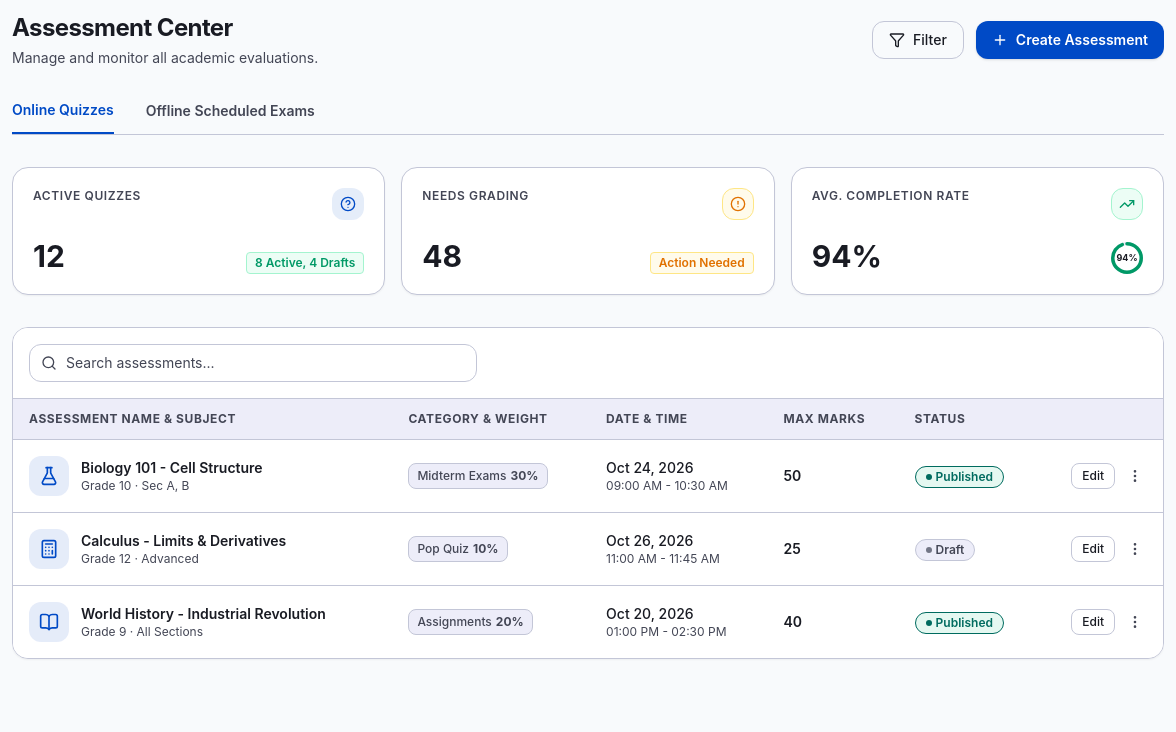
Scenario: QuizzesPage (Assessment Center Stitch Clone) › switches to Quiz Builder mode when Create Assessment is clicked
Click the button "Create Assessment".
click(1070, 40)  # box x1=976 y1=21 x2=1164 y2=59
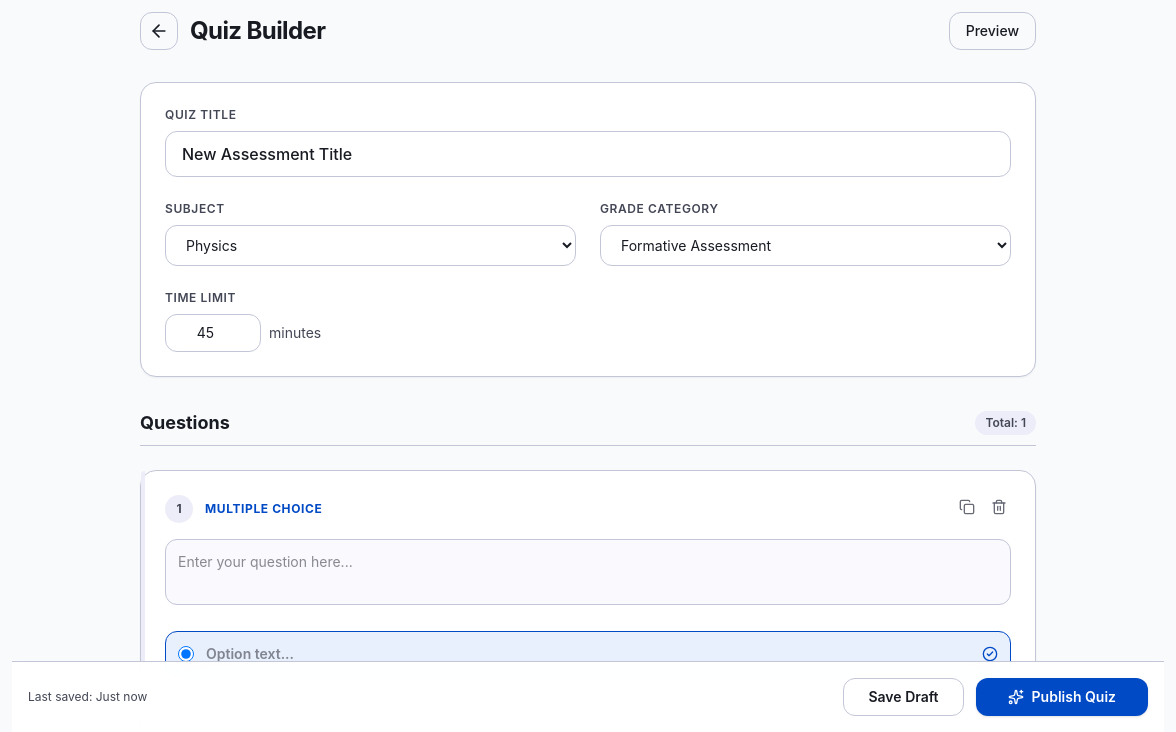
Now the heading "Quiz Builder" is shown, box x1=190 y1=15 x2=325 y2=47
Now the heading "Questions" is shown, box x1=140 y1=409 x2=230 y2=437
Now the button "Save Draft" is shown, box x1=844 y1=678 x2=964 y2=716
